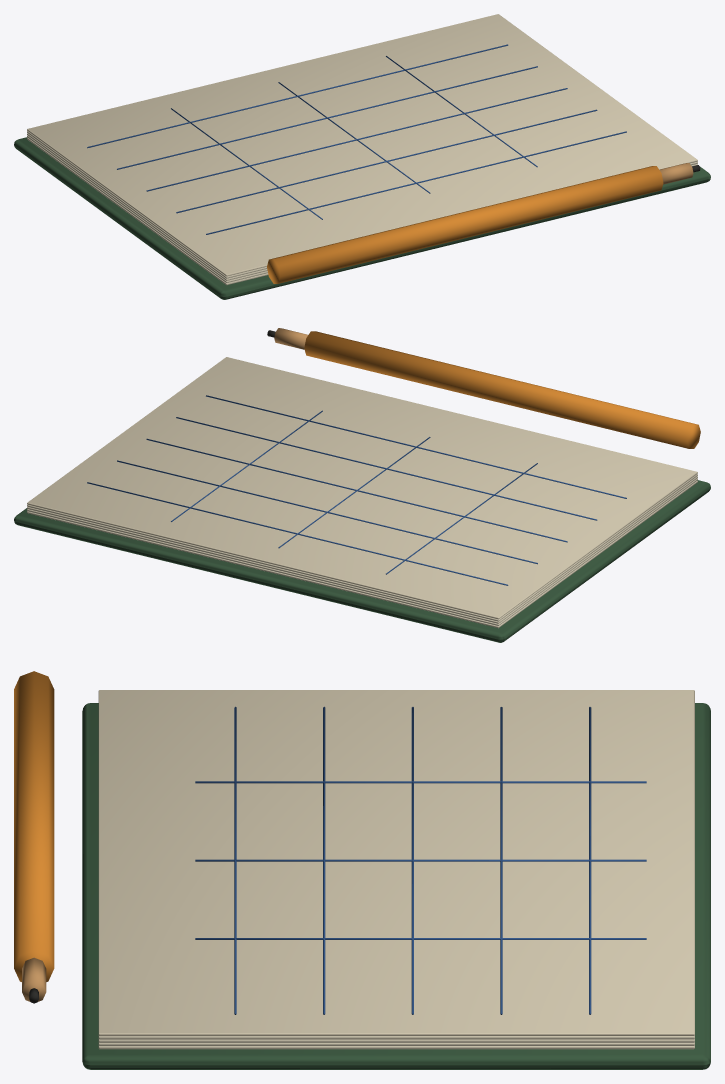
The model's file is yazboz_pad.glb.
3 views of the same model, one above another, from view 1: azimuth 30°, elevation 25°; view 2: azimuth 150°, elevation 25°; view 3: azimuth 270°, elevation 25° (orthographic). The views are drawn at different scales.
Parts seen in each view (by area): view 1: PaperSheet_4, Pencil, NotebookCover, RuledLine_0, RuledLine_2, RuledLine_3, RuledLine_4, RuledLine_1, PaperSheet_3, PaperSheet_2, PaperSheet_0, PaperSheet_1 (+1 smaller); view 2: PaperSheet_4, NotebookCover, Pencil, PaperSheet_0, PaperSheet_3, PaperSheet_1, PaperSheet_2, RuledLine_2, RuledLine_4, RuledLine_1, RuledLine_0, RuledLine_3 (+1 smaller); view 3: PaperSheet_4, NotebookCover, Pencil, PaperSheet_0, PaperSheet_2, PaperSheet_1, PaperSheet_3, ScoreColumn_1, ScoreColumn_0, RuledLine_4, RuledLine_1, RuledLine_3 (+4 smaller).
Part boxes in pixels (box(x1,y1,x2,y2)): PaperSheet_4: box(27, 14, 697, 276); Pencil: box(267, 166, 663, 283); NotebookCover: box(14, 137, 710, 299); RuledLine_0: box(87, 44, 508, 148); RuledLine_2: box(146, 88, 567, 191); RuledLine_3: box(176, 109, 597, 213); RuledLine_4: box(206, 131, 626, 234); RuledLine_1: box(117, 66, 537, 169); PaperSheet_3: box(27, 131, 697, 278); PaperSheet_2: box(27, 133, 697, 280); PaperSheet_0: box(27, 137, 268, 285); PaperSheet_1: box(27, 135, 267, 282); PaperSheet_4: box(27, 357, 697, 619); NotebookCover: box(14, 480, 710, 642); Pencil: box(304, 331, 700, 448); PaperSheet_0: box(27, 480, 697, 628); PaperSheet_3: box(27, 474, 697, 621); PaperSheet_1: box(27, 478, 697, 625); PaperSheet_2: box(27, 476, 697, 623); RuledLine_2: box(146, 438, 567, 542); RuledLine_4: box(206, 395, 626, 498); RuledLine_1: box(117, 460, 537, 564); RuledLine_0: box(87, 482, 508, 585); RuledLine_3: box(176, 417, 597, 520); PaperSheet_4: box(98, 690, 694, 1035); NotebookCover: box(82, 703, 710, 1069); Pencil: box(14, 671, 54, 981); PaperSheet_0: box(98, 1045, 694, 1049); PaperSheet_2: box(98, 1038, 694, 1042); PaperSheet_1: box(98, 1042, 694, 1045); PaperSheet_3: box(98, 1035, 694, 1039); ScoreColumn_1: box(195, 859, 646, 861); ScoreColumn_0: box(195, 781, 646, 783); RuledLine_4: box(234, 706, 236, 1014); RuledLine_1: box(500, 707, 502, 1014); RuledLine_3: box(323, 706, 325, 1014).
Bounding box in the file's own units: 0.105 × 0.0095 × 0.0865.
